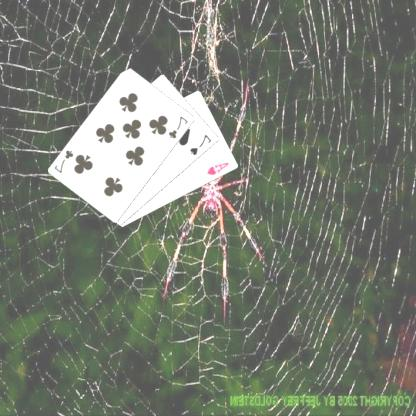7C: (53, 147, 77, 174), (167, 114, 191, 140)
7S: (189, 131, 215, 157)
AH: (206, 160, 232, 177)
